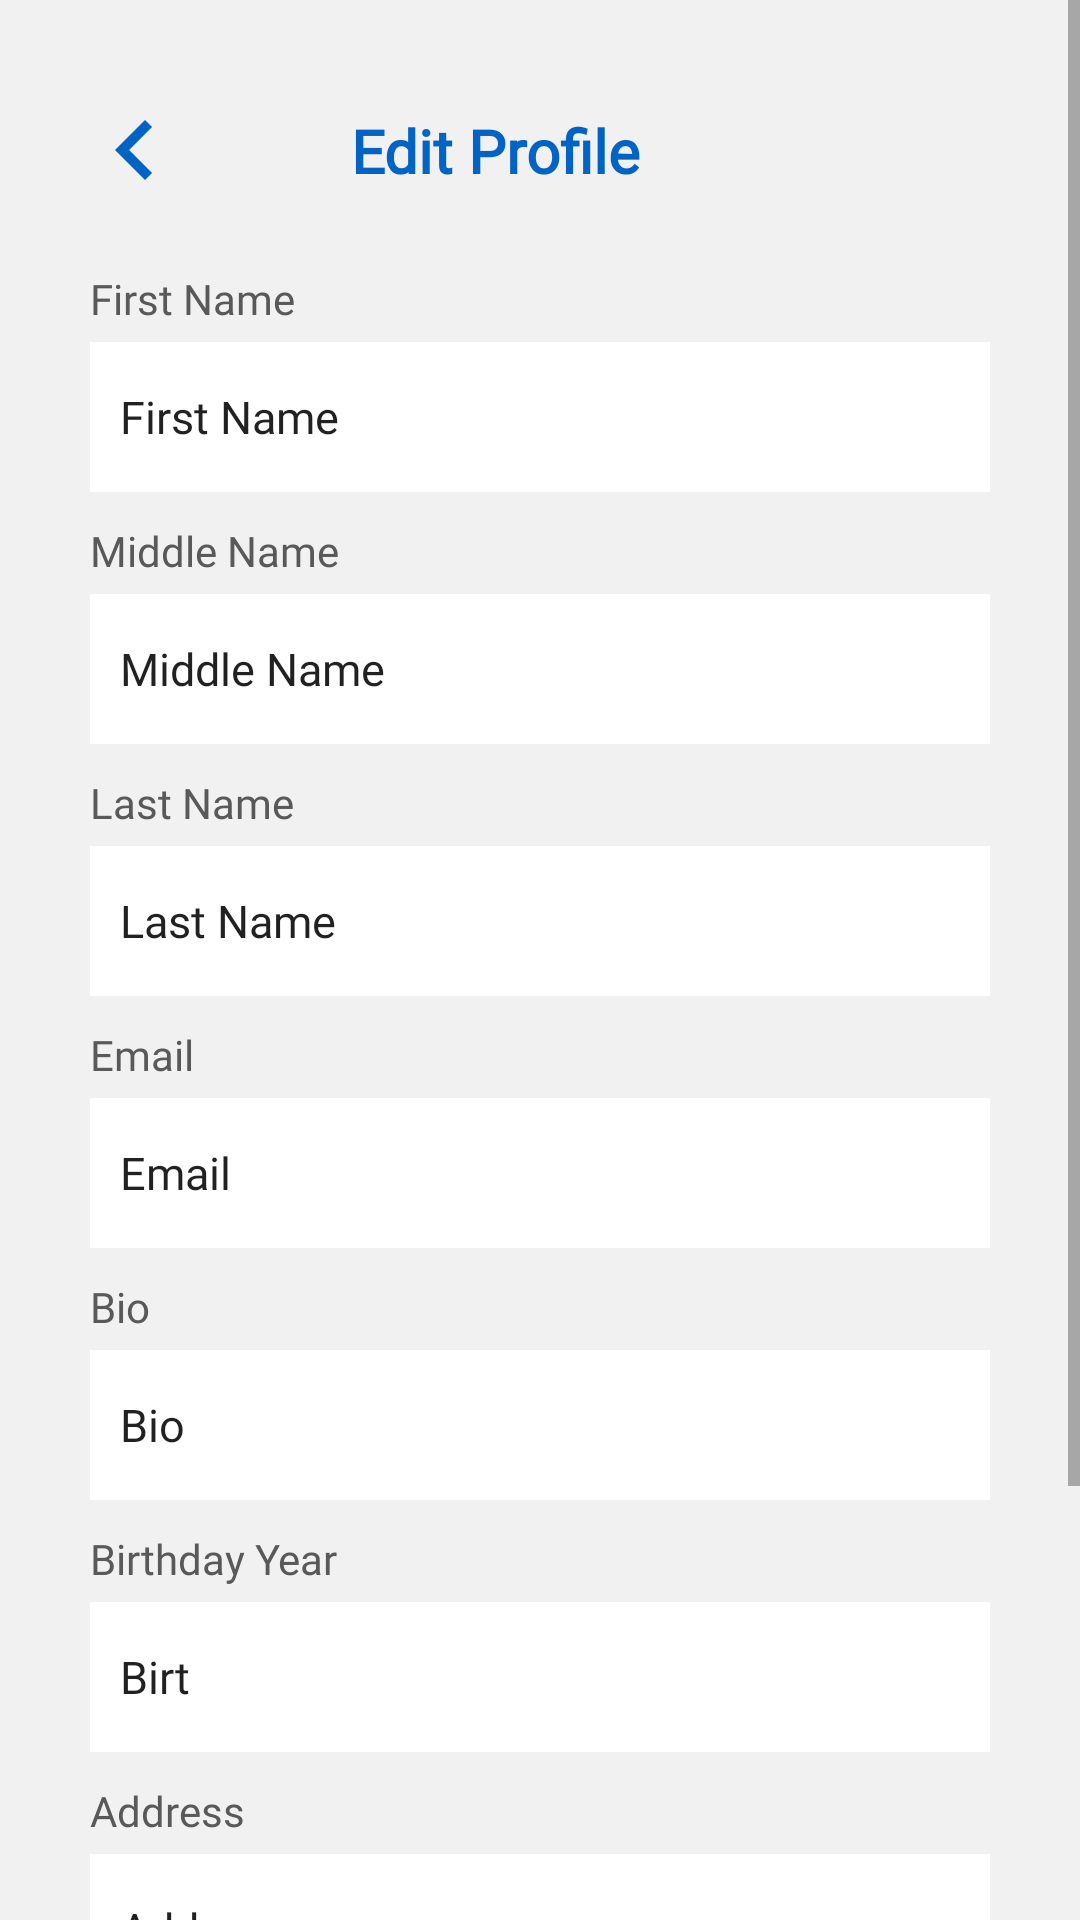

Point at icon controls on the screen. Image size 1080w x 1920h, points as point (x, y).
left: point (133, 150)
